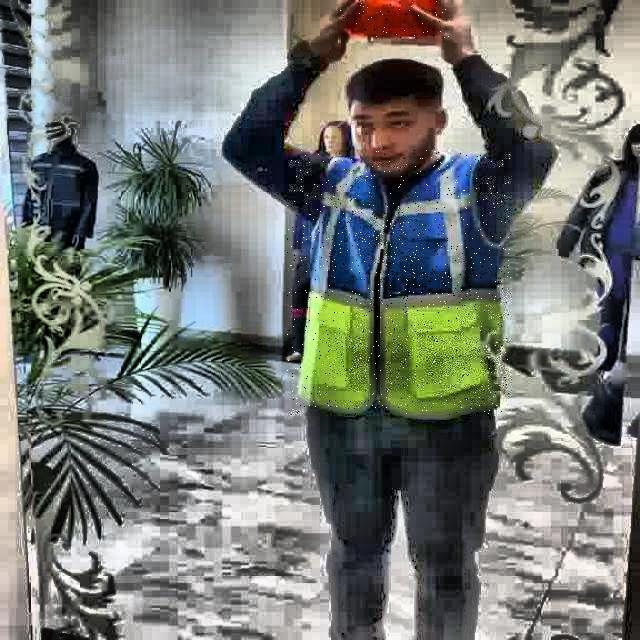safety_helmet: (338, 1, 451, 38)
safety_jacket: (288, 150, 512, 416)
